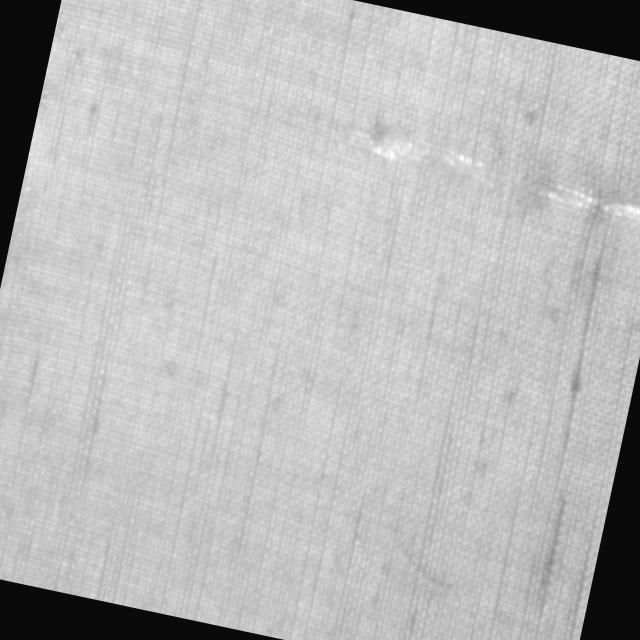thread error: (330, 103, 640, 237)
